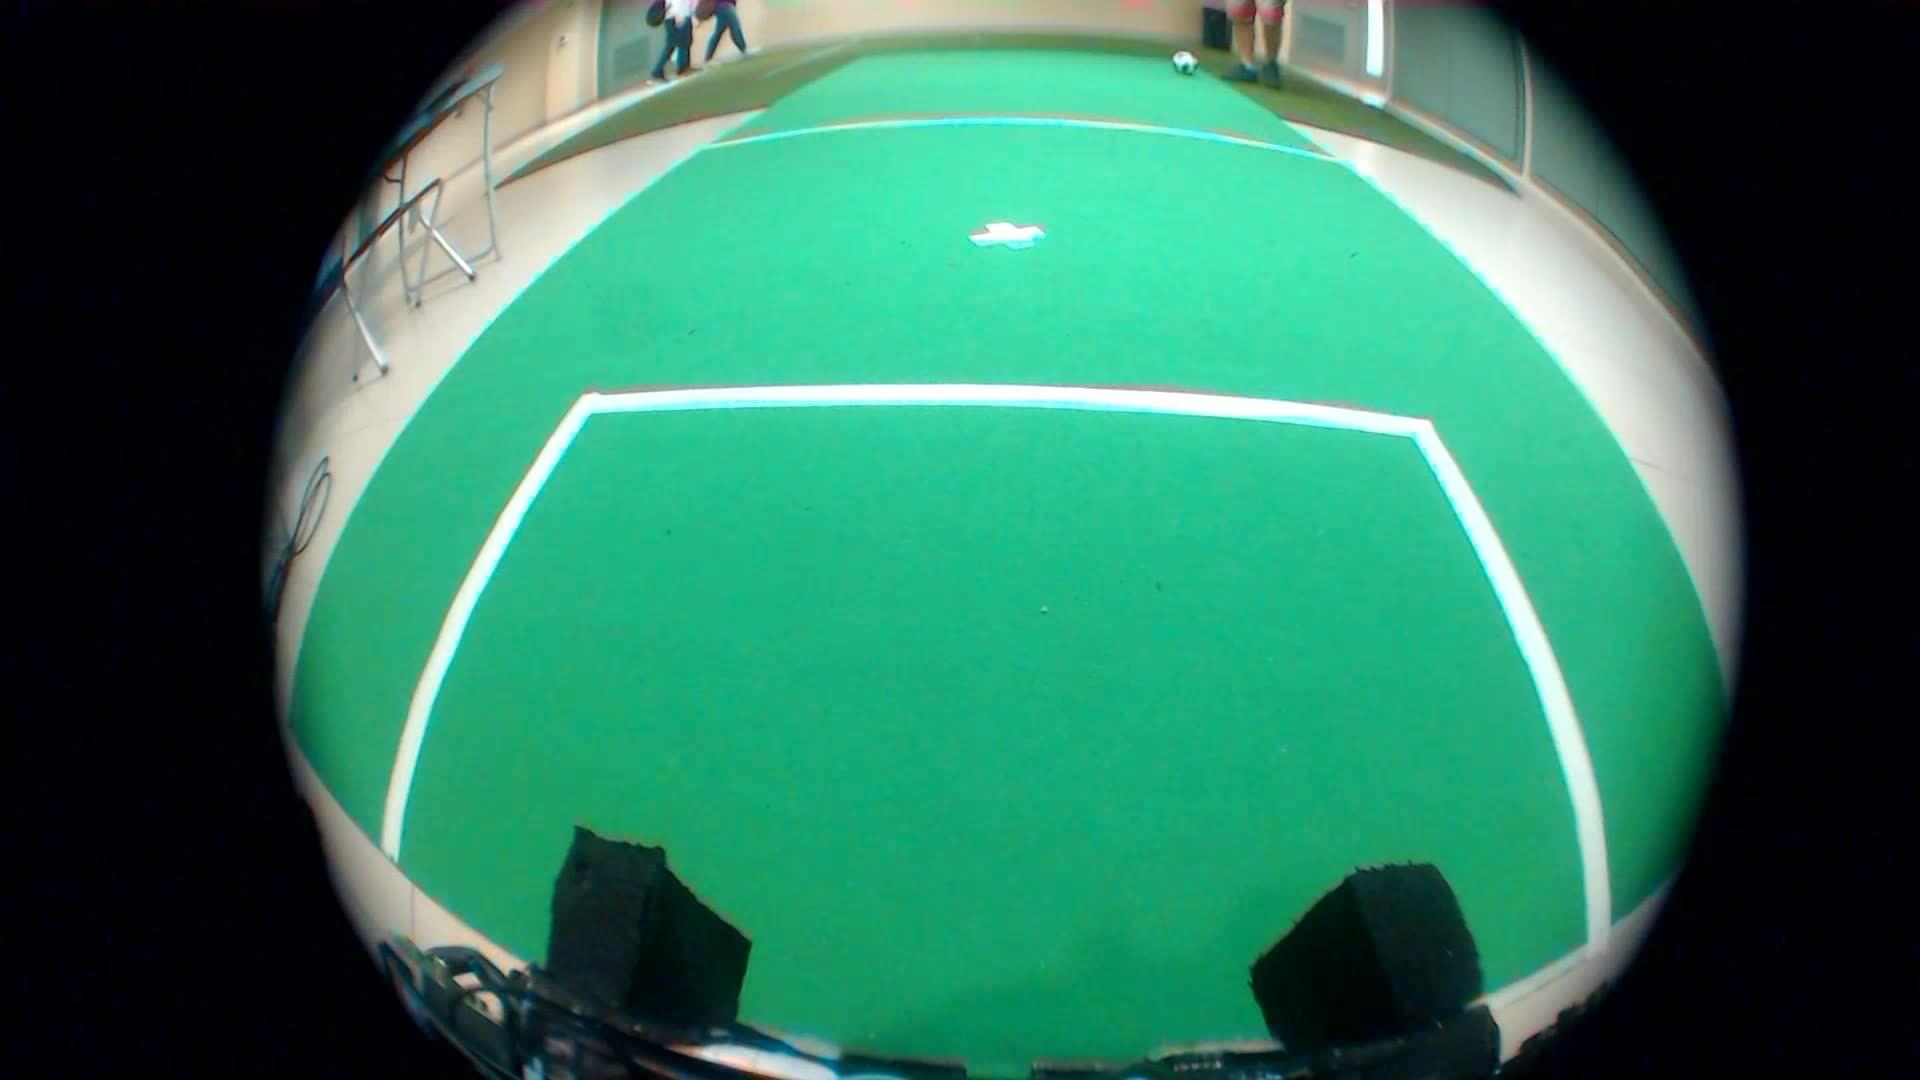ball: (1164, 44, 1197, 87)
